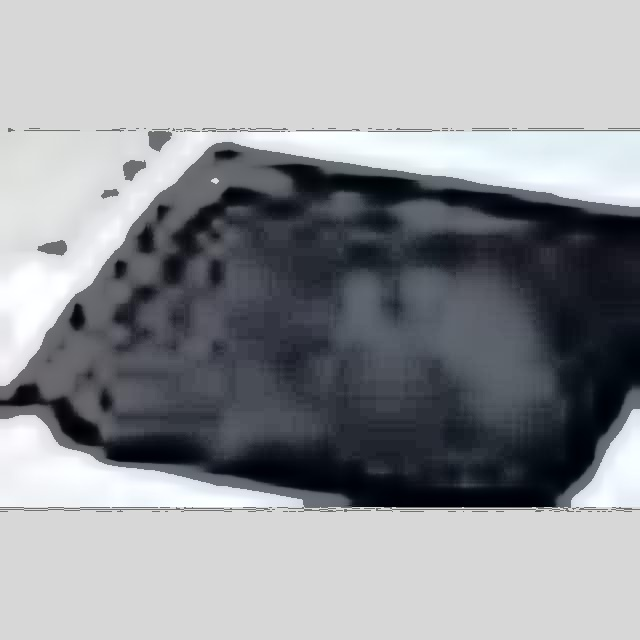pakai: (292, 243, 570, 466)
